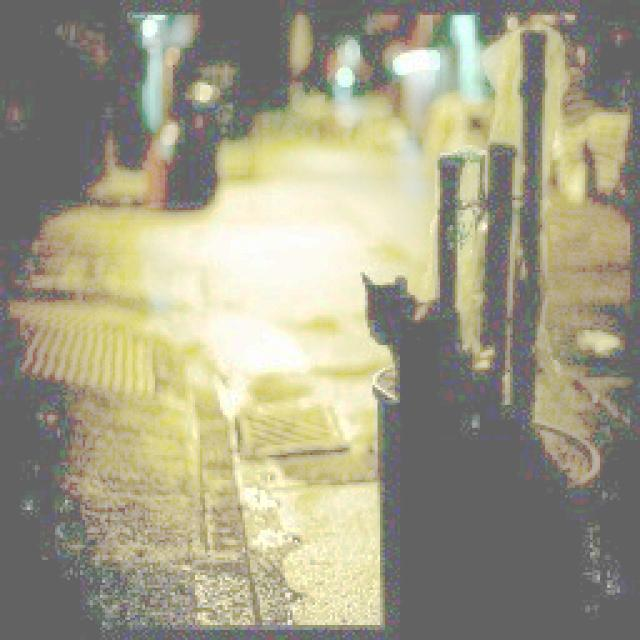cat: (333, 237, 484, 416)
